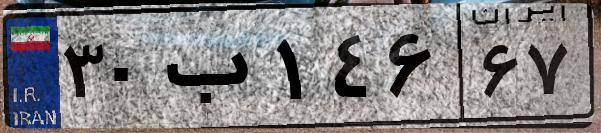0: (110, 28, 158, 98)
1: (270, 28, 330, 110)
3: (57, 26, 110, 100)
4: (330, 28, 385, 110)
6: (385, 28, 445, 110), (475, 38, 525, 113)
7: (525, 38, 570, 115)
ب: (158, 20, 270, 120)
